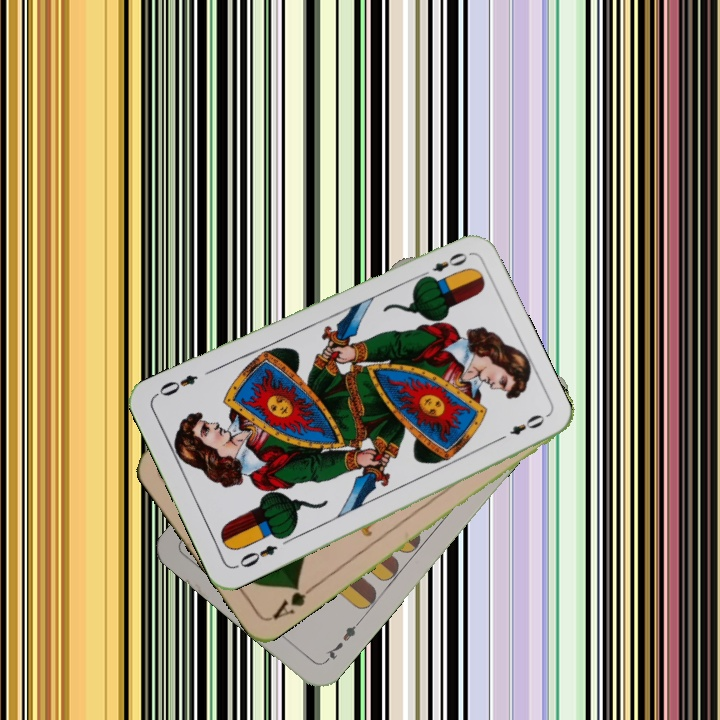E7: (320, 617, 363, 666)
EO: (415, 248, 470, 282), (235, 541, 280, 570)
GA: (268, 580, 317, 623)
